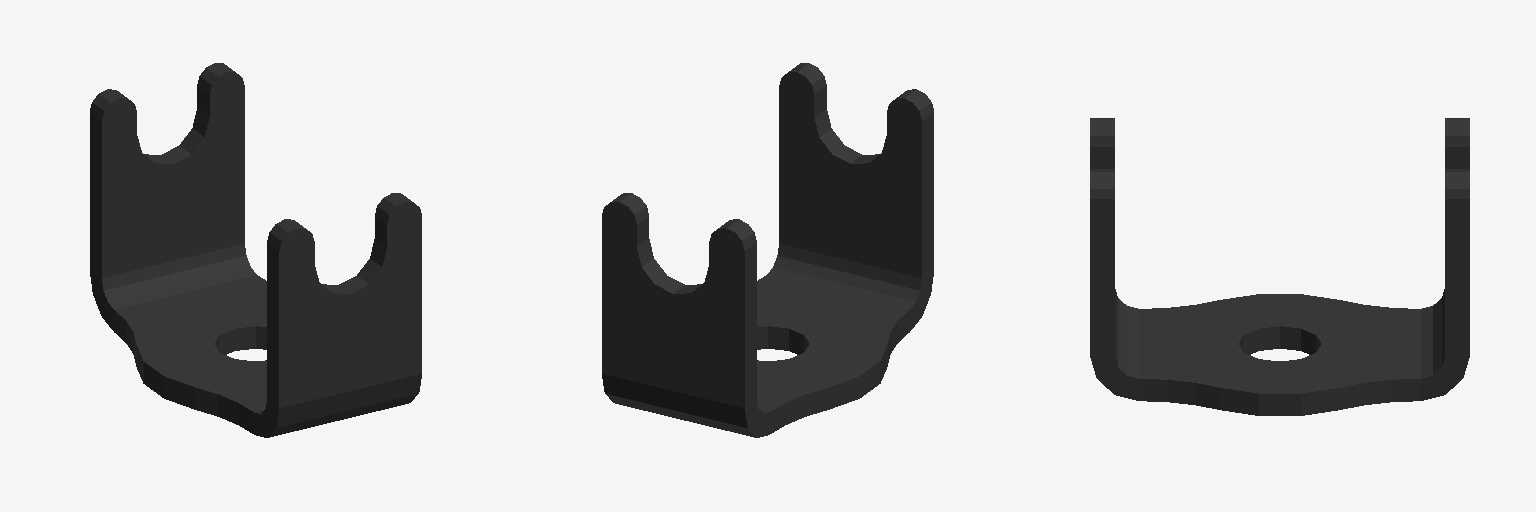
File: U_Lever_Carbon_2__1_mesh.obj
3 renders of one model, left to right at view 1: azimuth 30°, elevation 25°; view 2: azimuth 150°, elevation 25°; view 3: azimuth 270°, elevation 25°, orthographic.
Size of the model in its own units: 0.0286 by 0.0295 by 0.046.